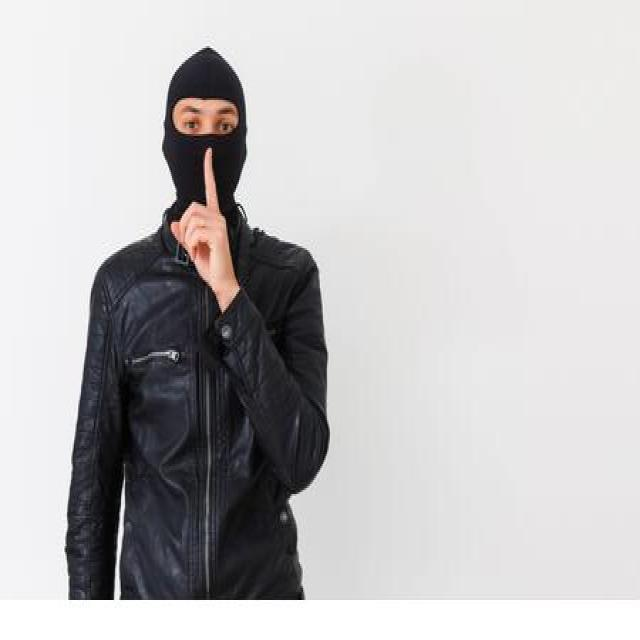6_pasamontana: (161, 45, 248, 206)
